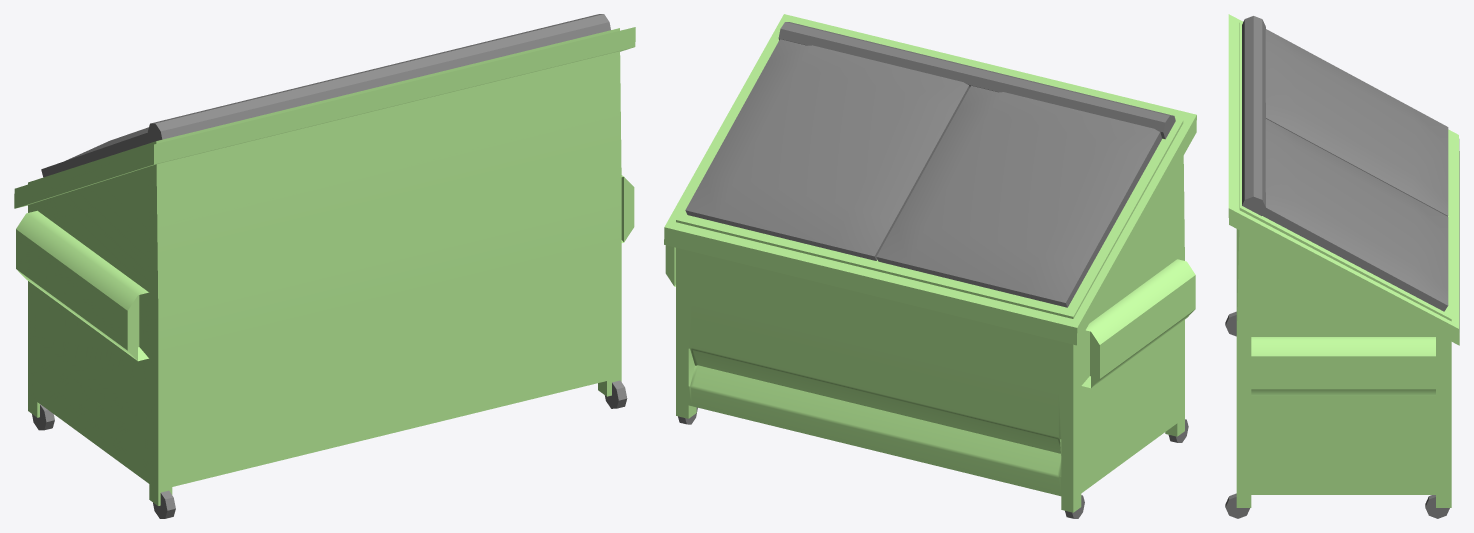
Rendered from Dumpster.fbx.
3 views of the same model, side by side, from view 1: azimuth 30°, elevation 25°; view 2: azimuth 150°, elevation 25°; view 3: azimuth 270°, elevation 25° (orthographic). The views are drawn at different scales.
Visible parts, largest first — view 1: pCylinder6; view 2: pCylinder6; view 3: pCylinder6.
Part boxes in pixels (x1,y1,x2,y2): pCylinder6: [14, 14, 635, 518]; pCylinder6: [664, 14, 1196, 518]; pCylinder6: [1225, 14, 1459, 518].
Bounding box in the file's own units: 9.08 × 6.64 × 4.4.
